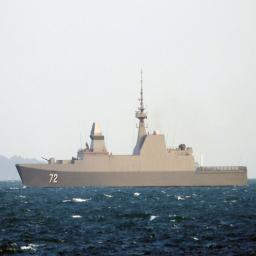Fragata: (16, 71, 252, 190)
